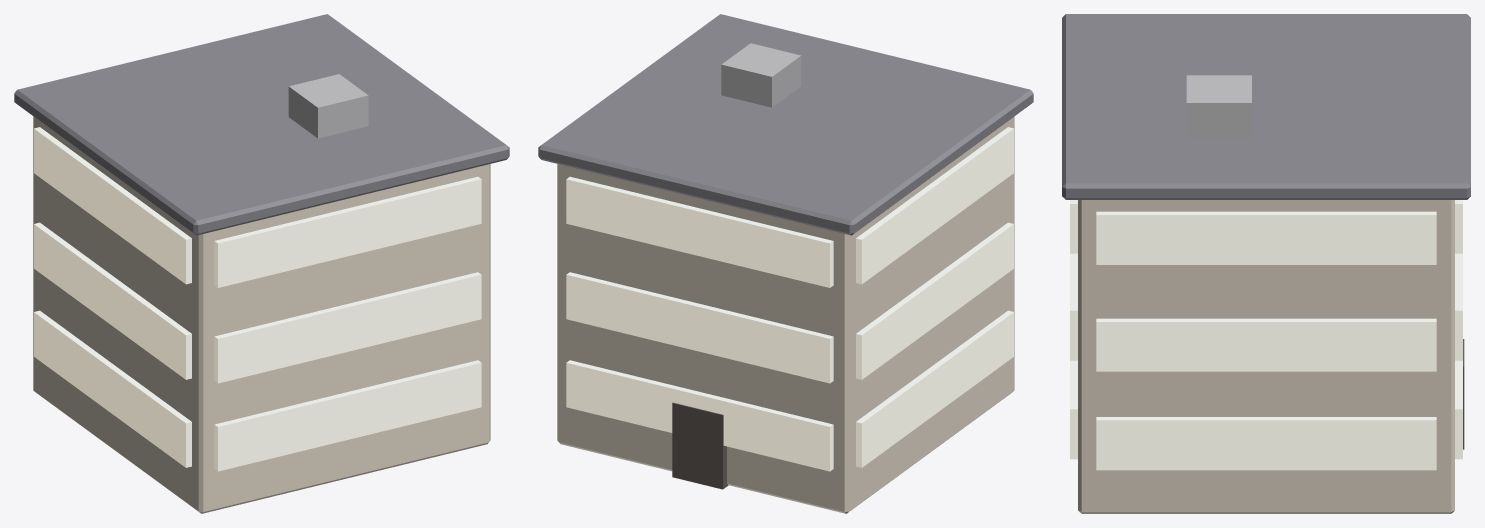
File: bld_2_0.glb
3 renders of one model, left to right at view 1: azimuth 30°, elevation 25°; view 2: azimuth 150°, elevation 25°; view 3: azimuth 270°, elevation 25°, orthographic. The views are drawn at different scales.
Visible parts, largest first — view 1: w, rf, bz2, bz2.001, bz2.002, bx2, bx2.001, bx2.002, ac; view 2: w, rf, bz1.001, bz1.002, bz1, bx2, bx2.001, bx2.002, door, ac; view 3: rf, w, bx1, bx1.001, bx1.002, ac, bz1.001, bz2.001, bz1, bz2.
Part boxes in pixels (<box>): w: <box>33,116,490,513</box>; rf: <box>14,14,509,235</box>; bz2: <box>214,360,481,471</box>; bz2.001: <box>214,272,481,383</box>; bz2.002: <box>214,176,481,287</box>; bx2: <box>34,310,191,467</box>; bx2.001: <box>34,222,191,379</box>; bx2.002: <box>34,127,191,284</box>; ac: <box>288,74,368,138</box>; w: <box>557,116,1014,513</box>; rf: <box>538,14,1033,235</box>; bz1.001: <box>566,272,833,383</box>; bz1.002: <box>566,176,833,287</box>; bz1: <box>566,360,833,471</box>; bx2: <box>856,310,1013,467</box>; bx2.001: <box>856,222,1013,379</box>; bx2.002: <box>856,127,1013,284</box>; door: <box>672,402,728,489</box>; ac: <box>721,43,801,107</box>; rf: <box>1062,14,1470,199</box>; w: <box>1078,200,1454,513</box>; bx1: <box>1096,417,1436,470</box>; bx1.001: <box>1096,318,1436,371</box>; bx1.002: <box>1096,211,1436,264</box>; ac: <box>1186,75,1251,137</box>; bz1.001: <box>1455,253,1462,360</box>; bz2.001: <box>1070,253,1077,360</box>; bz1: <box>1455,360,1462,459</box>; bz2: <box>1070,360,1077,459</box>.
Bounding box in the file's own units: 3.12 × 3.13 × 3.12.
